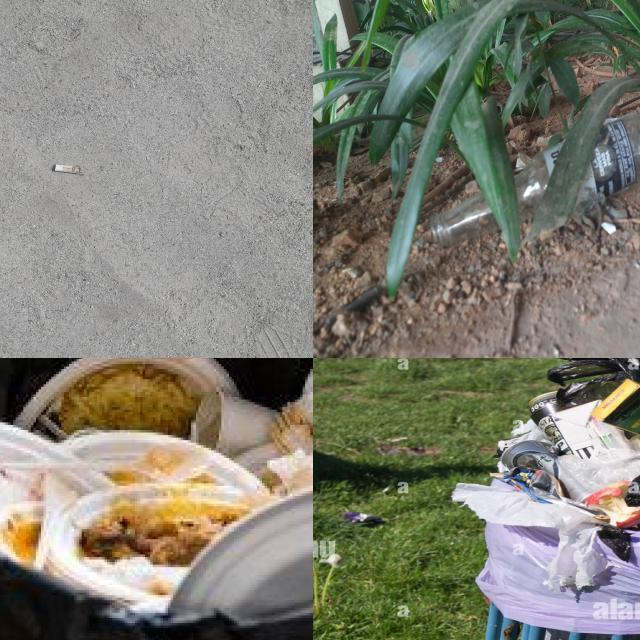Cig_bud: (53, 165, 80, 174)
Garbage: (313, 0, 640, 358), (0, 358, 313, 622), (498, 358, 640, 562)
Glass_bottle: (577, 114, 640, 210), (515, 145, 563, 222), (431, 195, 498, 246)
Plastic_Bag: (548, 358, 640, 408), (559, 449, 640, 494), (562, 452, 640, 491)
can: (529, 391, 571, 453), (500, 440, 559, 476)
contaminated_waste: (169, 489, 313, 621), (0, 424, 107, 564), (60, 432, 263, 493)
